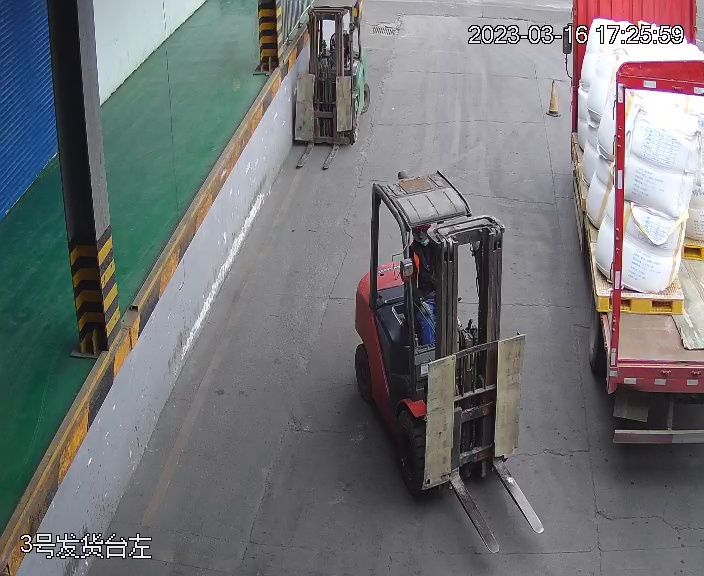truck: (561, 1, 704, 448)
